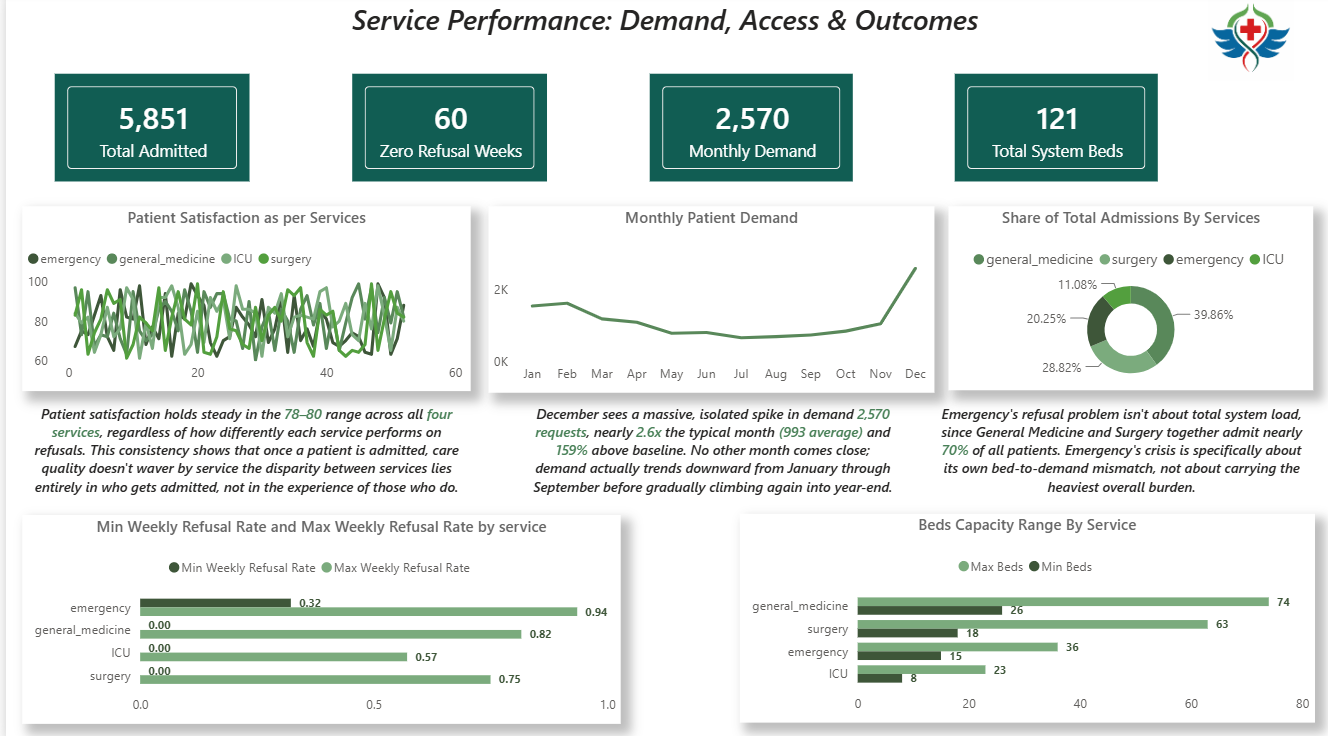

The page's visual inventory and layout, read from the dashboard file:
{"tool":"powerbi","page":{"name":"Services","canvas":[1280,720],"ordinal":2},"visuals":[{"type":"textbox","box":[178.7,0,922.6,101],"z":0},{"type":"image","box":[1140.1,0,122.4,83],"z":1000},{"type":"cardVisual","fields":{"Data":["patients.Total Admitted"]},"box":[42.8,70.9,198.6,114.3],"z":2000},{"type":"cardVisual","fields":{"Data":["Table.Peak Month Demand"]},"box":[616.1,71.2,206.8,114.3],"z":3000},{"type":"cardVisual","fields":{"Data":["services_weekly.Zero Refusal Weeks"]},"box":[329.4,71.2,198.6,114.3],"z":4000},{"type":"cardVisual","fields":{"Data":["services_weekly.Total System Beds"]},"box":[910.9,71.2,206.8,114.3],"z":5000},{"type":"textbox","box":[15.7,389.7,433.1,101.3],"z":6000},{"type":"textbox","box":[896.4,389.7,360.7,103.8],"z":7000},{"type":"lineChart","title":"Patient Satisfaction as per Services","fields":{"Category":["services_weekly.week"],"Series":["patients.service"],"Y":["Sum(services_weekly.patient_satisfaction)"]},"box":[15.7,203.9,433.1,178.6],"z":8000},{"type":"lineChart","title":"Monthly Patient Demand","fields":{"Y":["patients.Total Requested"],"Category":["services_weekly.Month Name"]},"box":[465.7,203.9,430.7,179.8],"z":9000},{"type":"donutChart","title":"Share of Total Admissions By Services","fields":{"Category":["services_weekly.service"],"Y":["patients.Total Admitted"]},"box":[909.7,203.9,352.3,177.3],"z":10000},{"type":"clusteredBarChart","fields":{"Y":["services_weekly.Min Weekly Refusal Rate","services_weekly.Max Weekly Refusal Rate"],"Category":["services_weekly.service"]},"box":[15.7,501.9,577.9,201.5],"z":11000},{"type":"clusteredBarChart","title":"Beds Capacity Range By Service","fields":{"Y":["services_weekly.Max Beds","services_weekly.Min Beds"],"Category":["services_weekly.service"]},"box":[708.2,500.7,555,201.5],"z":12000},{"type":"textbox","box":[503.1,389.7,358.3,120.6],"z":13000}]}

Visuals, with their boxes in screenshot pixels (x1, y1, x2, y2), scaled from the page's 1280x720 canvas onto the 1328x736 screenshot:
textbox: [185, 0, 1143, 103]
image: [1183, 0, 1310, 85]
cardVisual - patients.Total Admitted: [44, 72, 250, 189]
cardVisual - Table.Peak Month Demand: [639, 73, 854, 190]
cardVisual - services_weekly.Zero Refusal Weeks: [342, 73, 548, 190]
cardVisual - services_weekly.Total System Beds: [945, 73, 1160, 190]
textbox: [16, 398, 466, 502]
textbox: [930, 398, 1304, 504]
"Patient Satisfaction as per Services" lineChart: [16, 208, 466, 391]
"Monthly Patient Demand" lineChart: [483, 208, 930, 392]
"Share of Total Admissions By Services" donutChart: [944, 208, 1309, 390]
clusteredBarChart - services_weekly.Min Weekly Refusal Rate x services_weekly.Max Weekly Refusal Rate: [16, 513, 616, 719]
"Beds Capacity Range By Service" clusteredBarChart: [735, 512, 1311, 718]
textbox: [522, 398, 894, 522]
